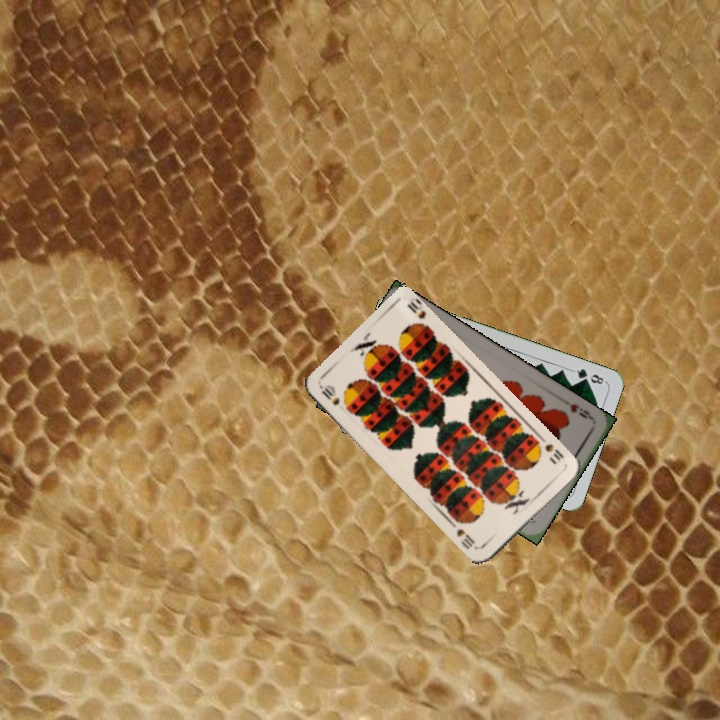G8: (569, 364, 608, 387)
H9: (566, 399, 597, 423)
S10: (532, 432, 566, 463), (317, 381, 342, 408)
